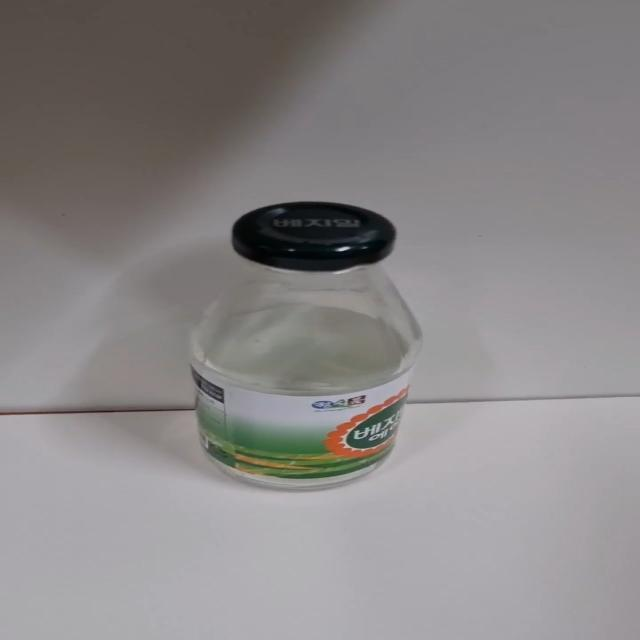Glass: (182, 202, 434, 494)
